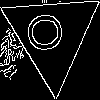O: (27, 11, 71, 53)
